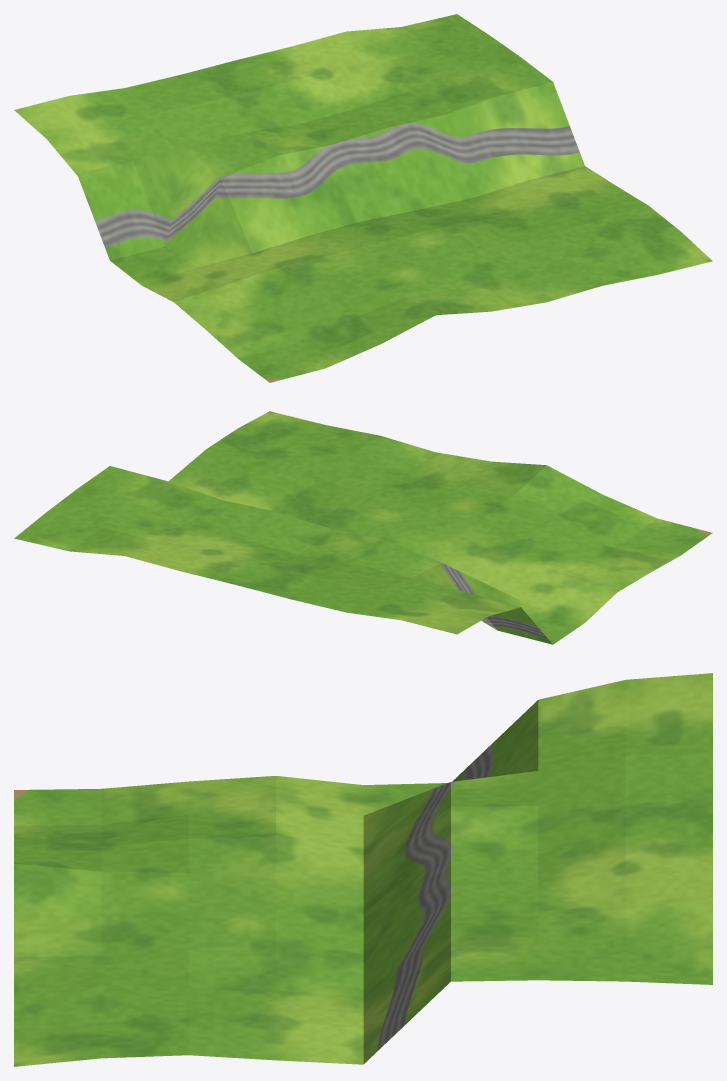
File: chunk_1_1_far.fbx
3 views of the same model, one above another, from view 1: azimuth 30°, elevation 25°; view 2: azimuth 150°, elevation 25°; view 3: azimuth 270°, elevation 25° (orthographic). The views are drawn at different scales.
Visible parts, largest first — view 1: chunk_1_1_far; view 2: chunk_1_1_far; view 3: chunk_1_1_far.
Part boxes in pixels (x1,y1,x2,y2): chunk_1_1_far: (14,14,712,382); chunk_1_1_far: (14,411,712,644); chunk_1_1_far: (14,673,712,1066).
Bounding box in the file's own units: 6400 × 6400 × 1191.
1 material, 1 textured.
